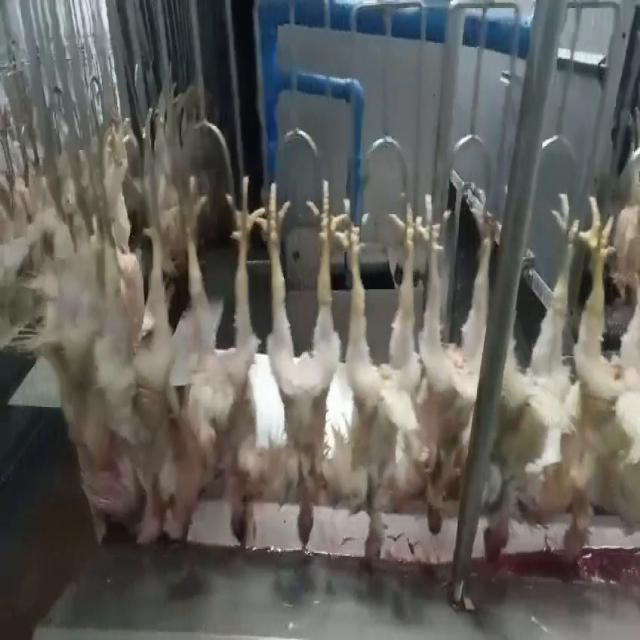chicken: (329, 191, 431, 578), (480, 187, 582, 570), (171, 170, 255, 546), (256, 180, 336, 546), (561, 195, 638, 572), (420, 188, 495, 539), (112, 174, 168, 549)
